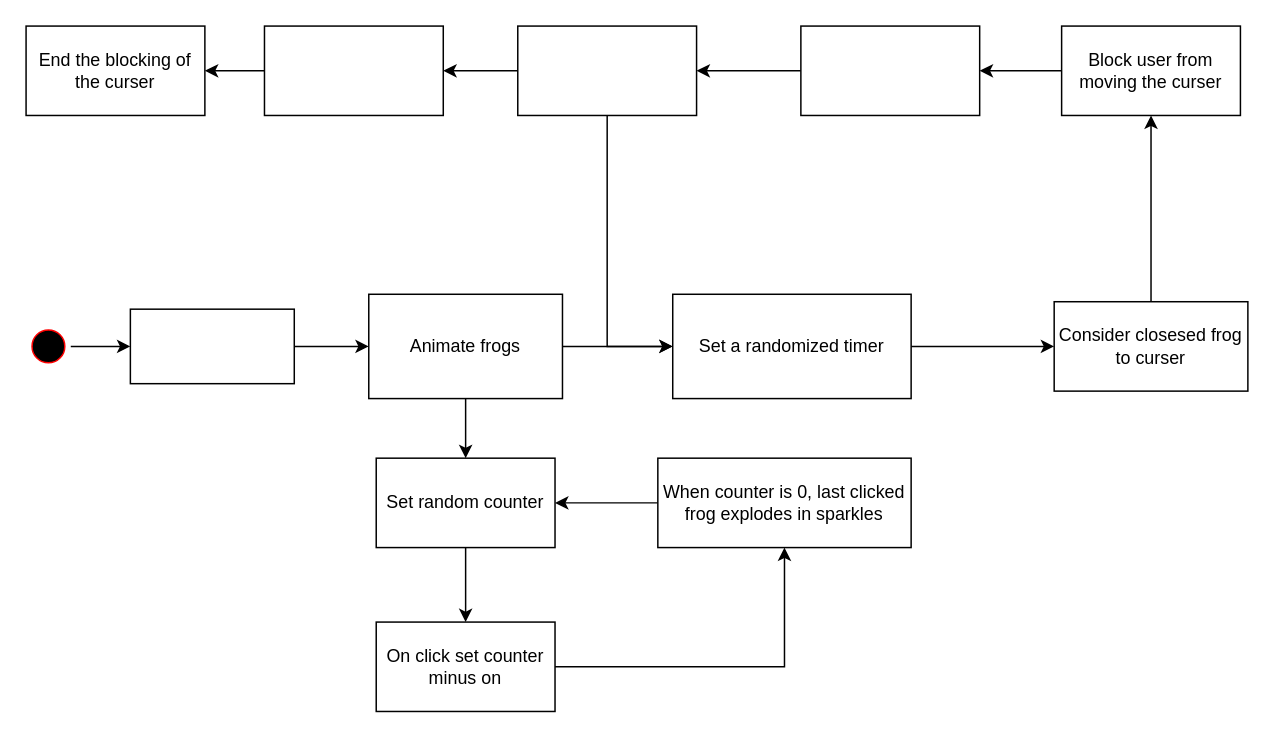
The diagram is 1274 pixels wide and 738 high, and some of its shapes have lost their labels. The centre of each missing label's shape, as x and y in pixels:
Animate tongue: the point at 889,70
Move curser to a somewhere random on the desktop: the point at 353,70
Open Application: the point at 211,346
With tongue attached move curser to the frog: the point at 606,70
